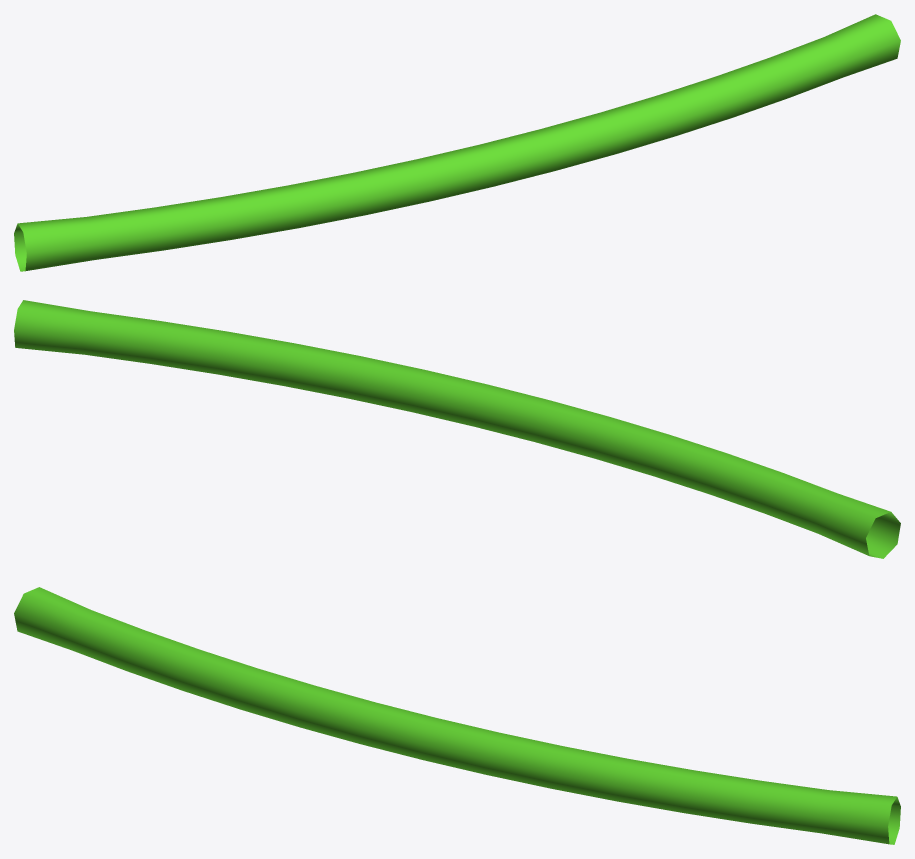
The model's file is Norris_Maze_Green_Wire_C2.fbx.
3 renders of one model, top to bottom at view 1: azimuth 30°, elevation 25°; view 2: azimuth 150°, elevation 25°; view 3: azimuth 330°, elevation 25°, orthographic.
Parts seen in each view (by area): view 1: WireCurve7; view 2: WireCurve7; view 3: WireCurve7.
Part boxes in pixels (x1=…): WireCurve7: x1=14, y1=14, x2=900, y2=271; WireCurve7: x1=14, y1=300, x2=900, y2=558; WireCurve7: x1=14, y1=587, x2=900, y2=844.
Bounding box in the file's own units: 18.96 × 0.9116 × 2.08.
